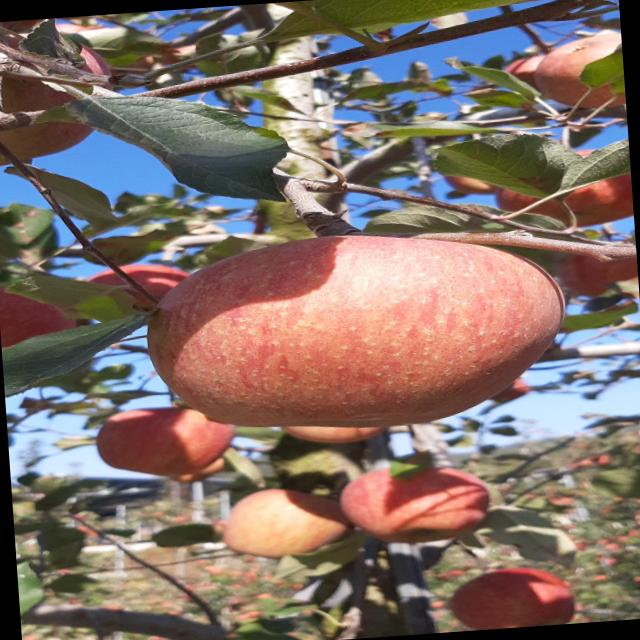fresh: (127, 215, 586, 448)
